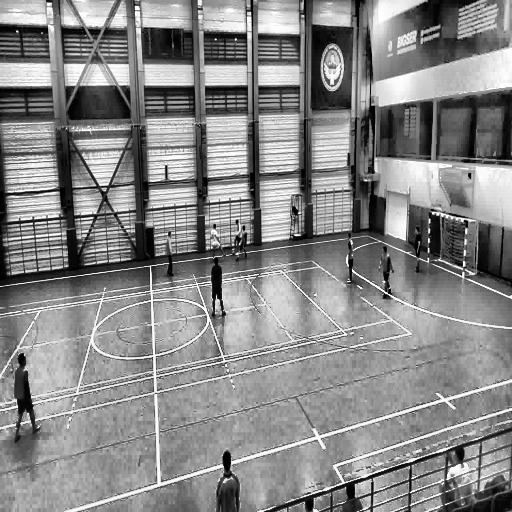ball: (232, 250, 235, 258)
player: (13, 346, 44, 440), (210, 256, 226, 317), (380, 246, 393, 299), (210, 225, 225, 260), (234, 218, 244, 261), (346, 232, 354, 284), (166, 232, 174, 276), (414, 227, 421, 273)
